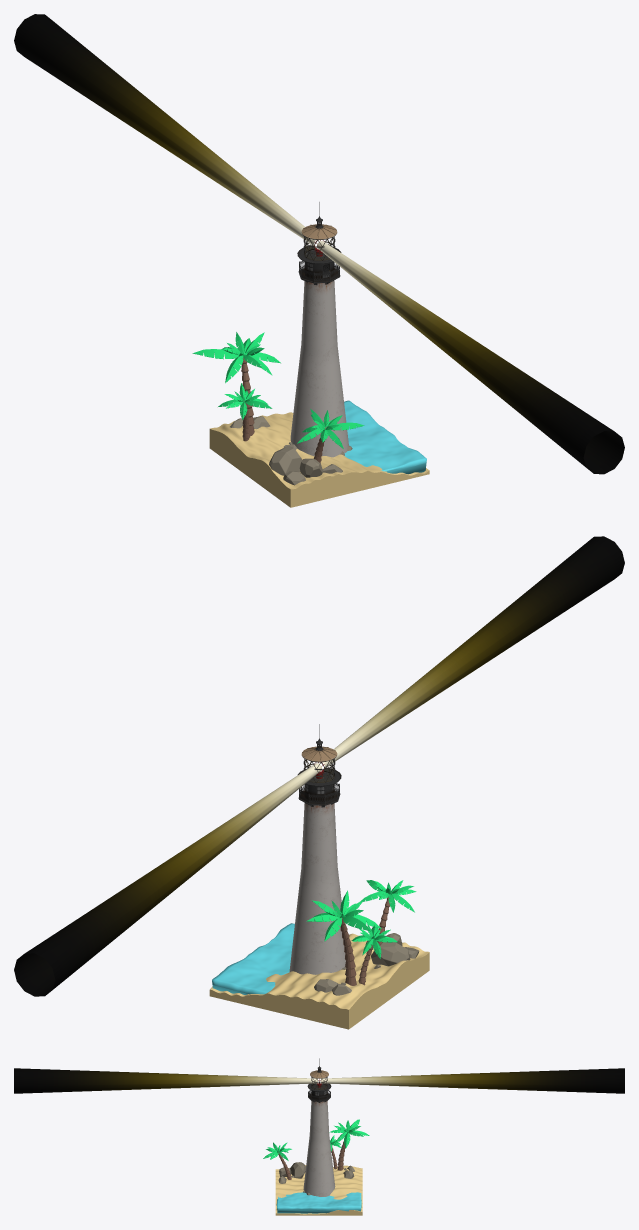
Rendered from biscayne-lh-beach.glb.
3 views of the same model, one above another, from view 1: azimuth 30°, elevation 25°; view 2: azimuth 150°, elevation 25°; view 3: azimuth 270°, elevation 25° (orthographic). The views are drawn at different scales.
Visible parts, largest first — view 1: pasted__pCylinder14, Plane, polySurface1, Plane.001, Cube.002; view 2: pasted__pCylinder14, Plane, polySurface1, Plane.001, Cube.002; view 3: pasted__pCylinder14, polySurface1, Plane, Plane.001.
Part boxes in pixels (left/top/right/bottom): pasted__pCylinder14: left=14, top=14, right=624, bottom=474; Plane: left=209, top=412, right=429, bottom=507; polySurface1: left=290, top=280, right=348, bottom=457; Plane.001: left=344, top=400, right=426, bottom=474; Cube.002: left=269, top=446, right=302, bottom=475; pasted__pCylinder14: left=14, top=536, right=624, bottom=996; Plane: left=209, top=933, right=429, bottom=1029; polySurface1: left=289, top=803, right=345, bottom=974; Plane.001: left=212, top=923, right=294, bottom=994; Cube.002: left=371, top=942, right=410, bottom=966; pasted__pCylinder14: left=14, top=1068, right=624, bottom=1093; polySurface1: left=303, top=1101, right=335, bottom=1196; Plane: left=275, top=1165, right=362, bottom=1215; Plane.001: left=276, top=1192, right=361, bottom=1213.
Bounding box in the file's own units: 8 × 12.68 × 49.5.
9 materials, 4 textured.
